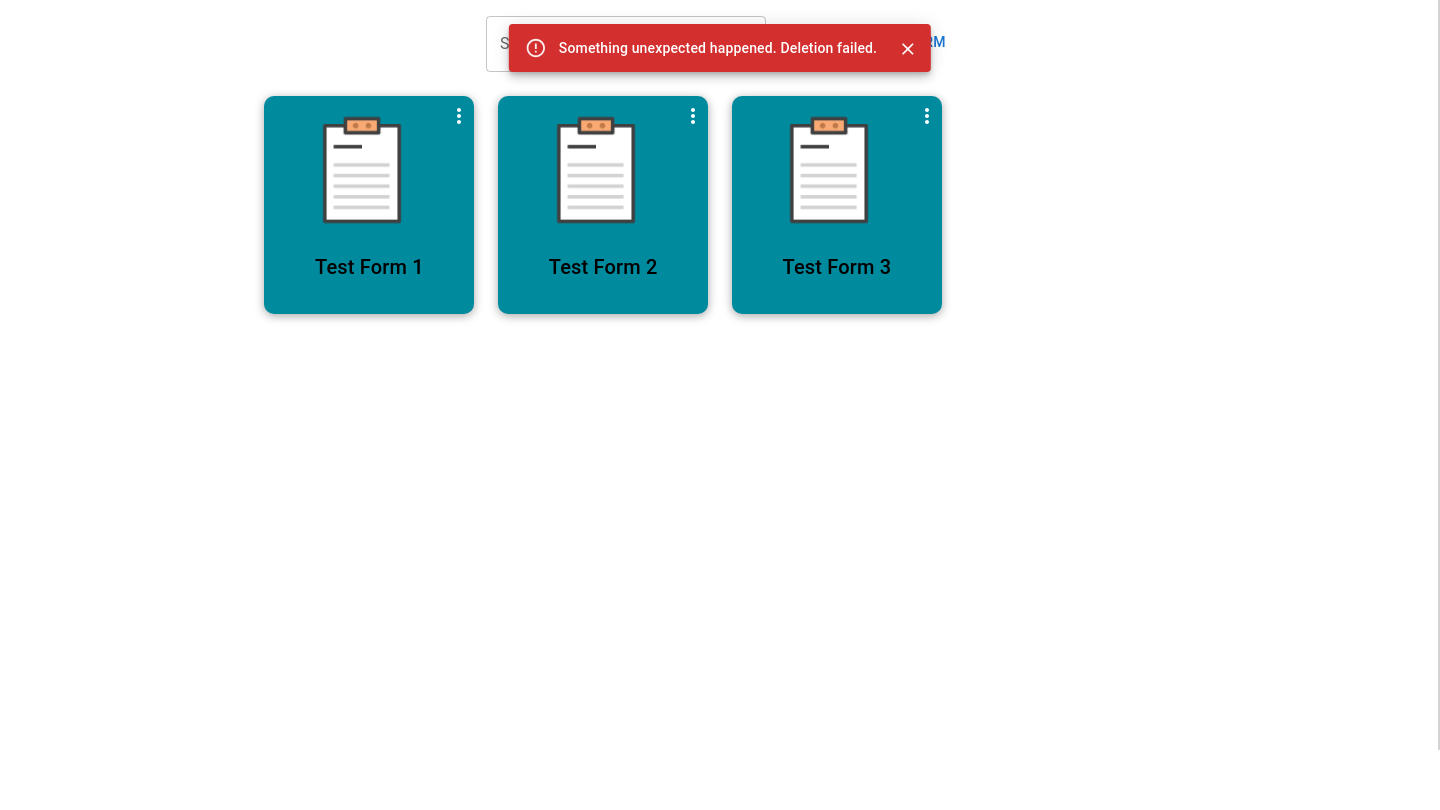
it: Formslist component › after clicking 'add new version' menu option, a new version will be created for that form
The width and height of the screenshot is (1440, 810).
Click the button named "more1" at point(459, 116), box [439,96,479,136]
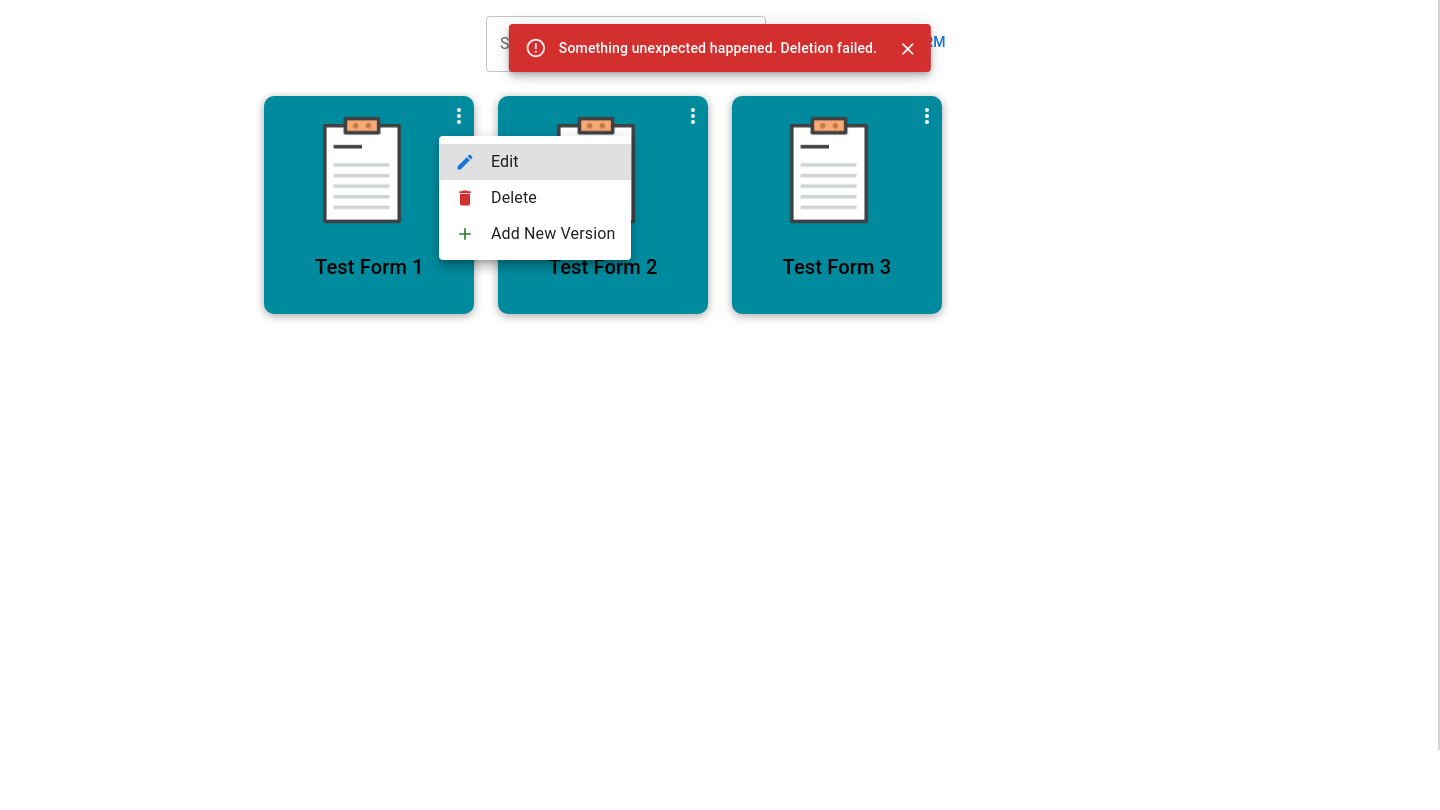
Click the menu item with test id "Add New Version" at point(535, 234), box [455,224,616,244]
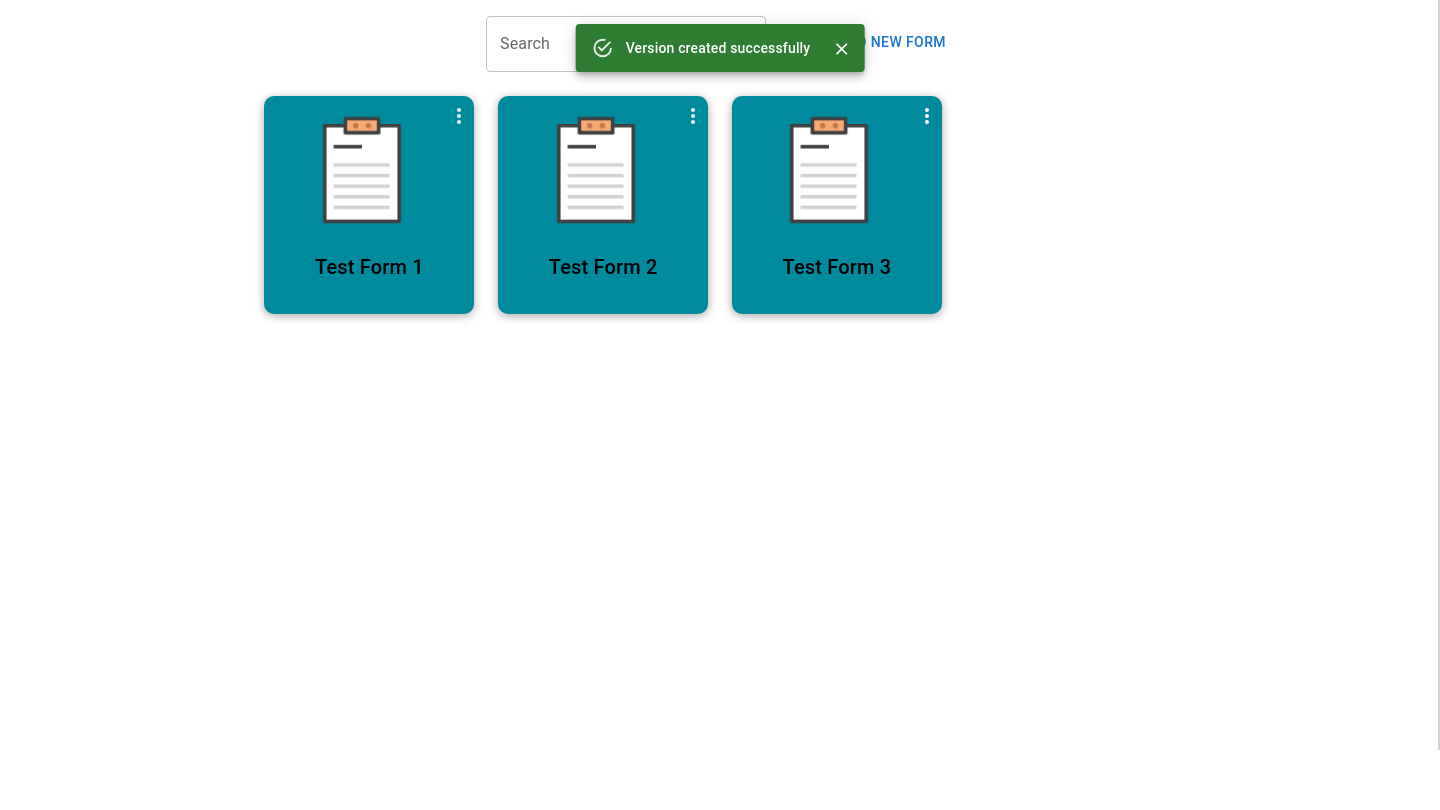
Check: the text "Version created successfully" is shown, box [626,40,810,56]
